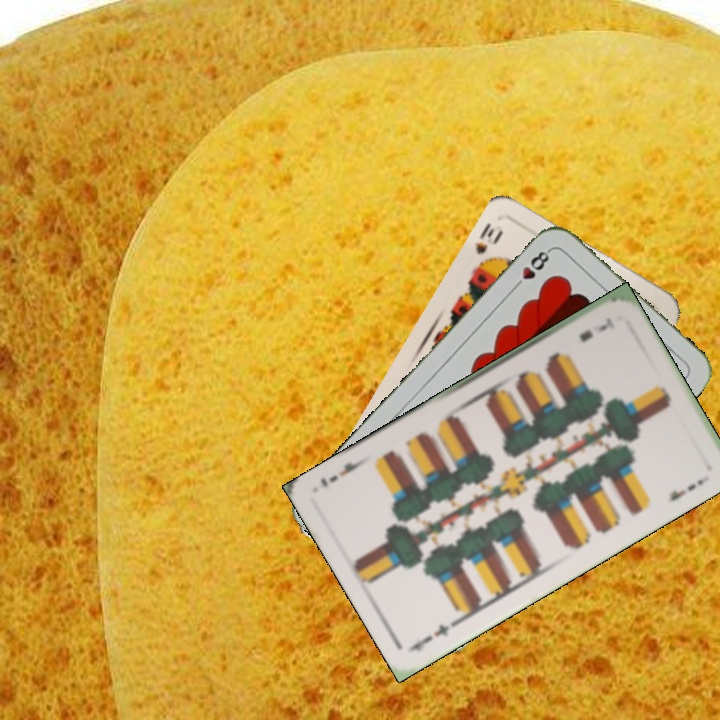E7: (407, 616, 461, 654), (575, 314, 617, 345)
H8: (509, 245, 554, 293)
S10: (471, 218, 506, 272)
